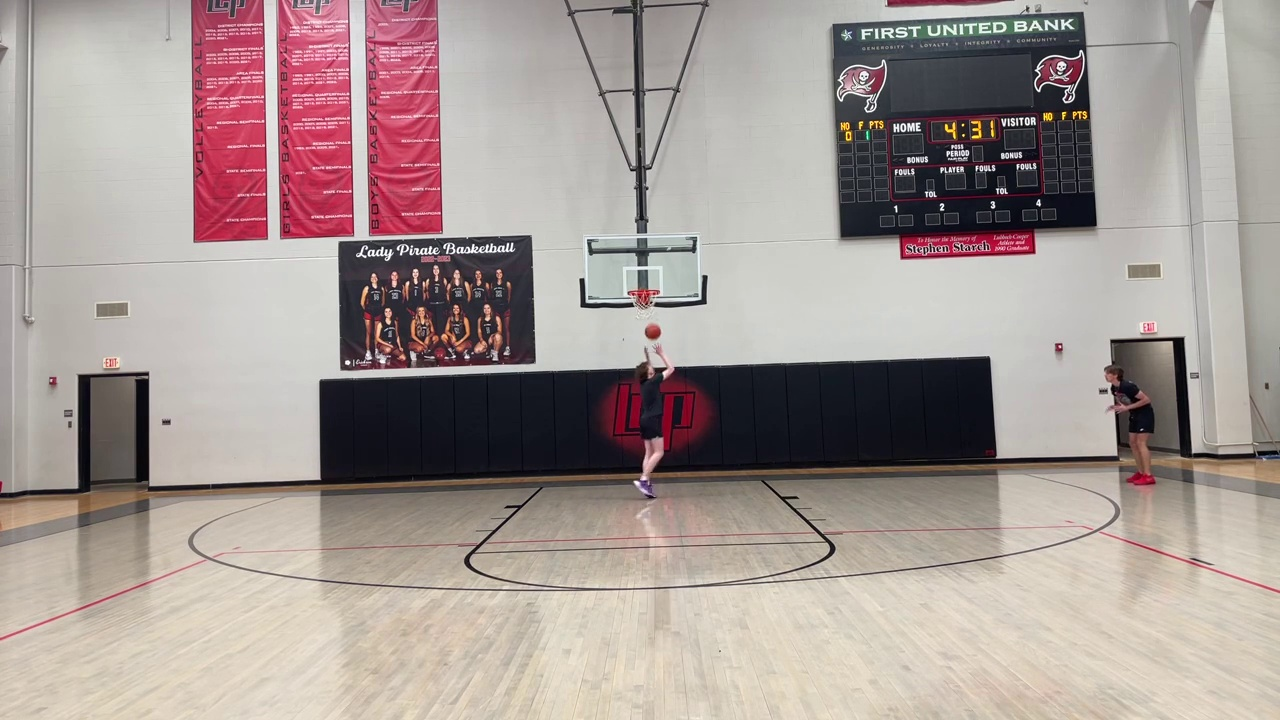shooting player: (632, 321, 672, 497)
